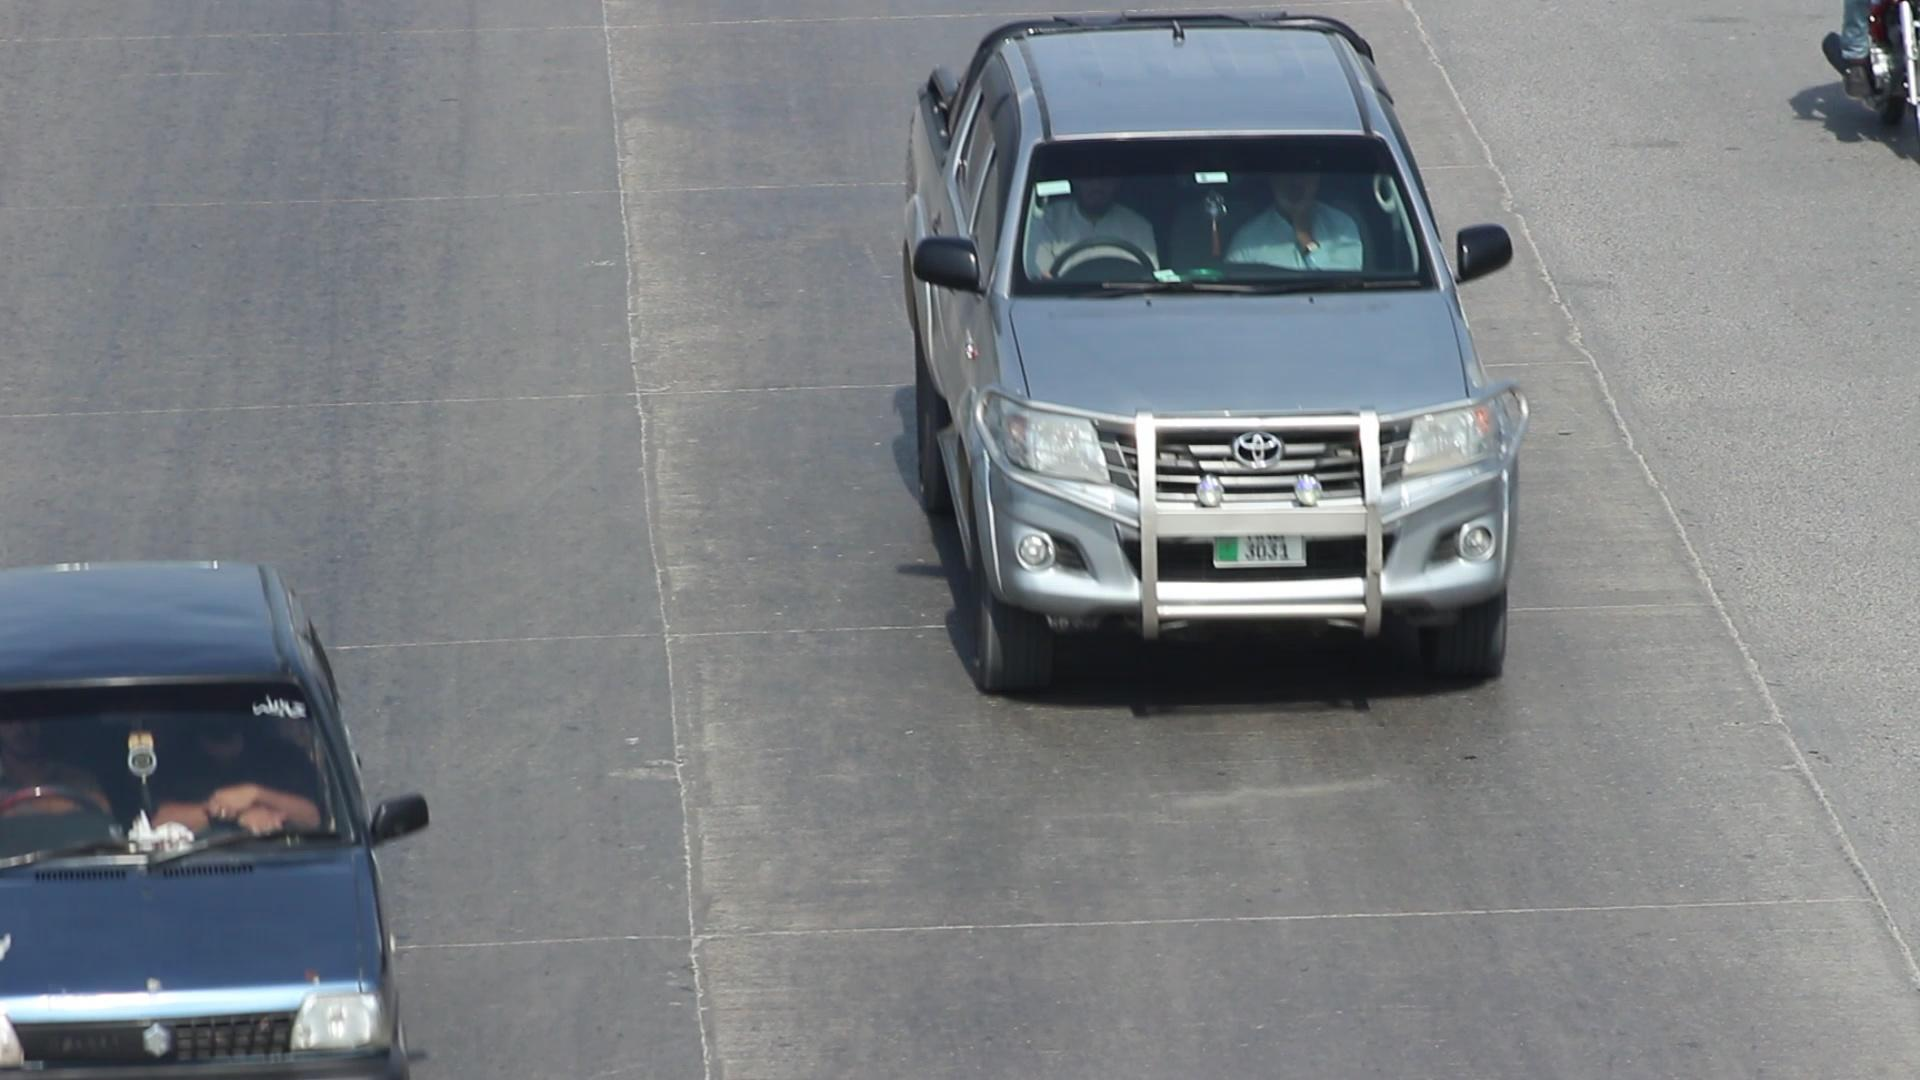windshield: (1001, 124, 1451, 301)
